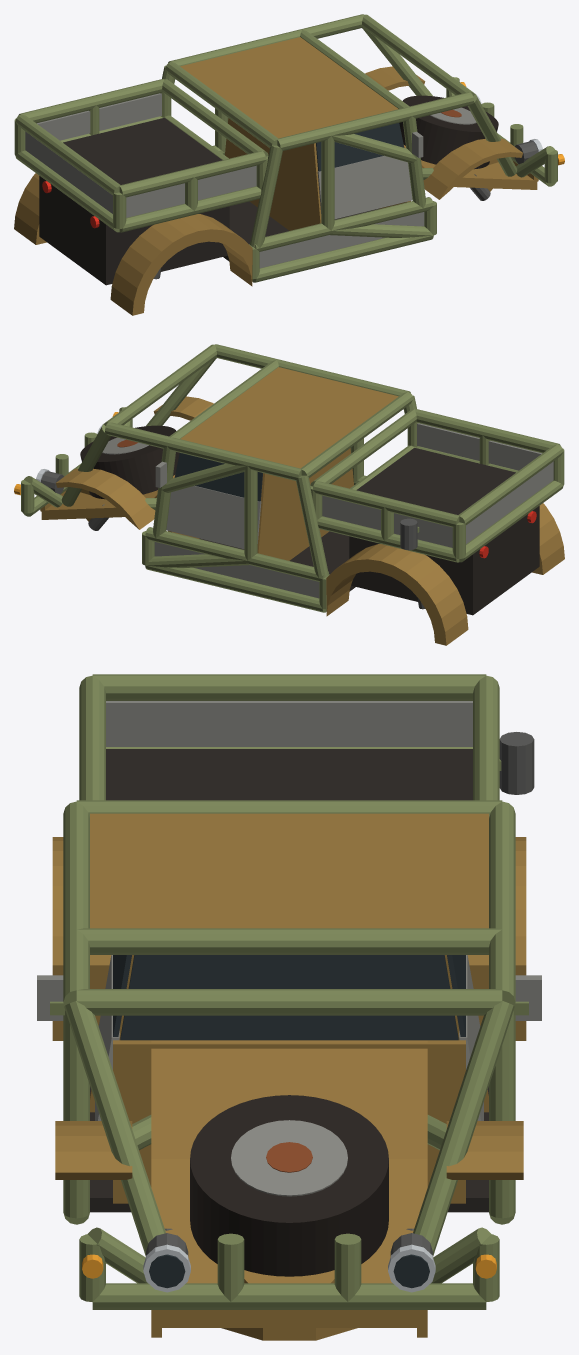
The model's file is base_buggy.glb.
3 renders of one model, top to bottom at view 1: azimuth 30°, elevation 25°; view 2: azimuth 150°, elevation 25°; view 3: azimuth 270°, elevation 25°, orthographic. The views are drawn at different scales.
Parts seen in each view (by area): view 1: base_buggy; view 2: base_buggy; view 3: base_buggy.
Part boxes in pixels (bbox=[...]): base_buggy: bbox=[14, 14, 564, 315]; base_buggy: bbox=[14, 344, 564, 645]; base_buggy: bbox=[37, 674, 541, 1340].
Bounding box in the file's own units: 3.89 × 1.2 × 1.9.
